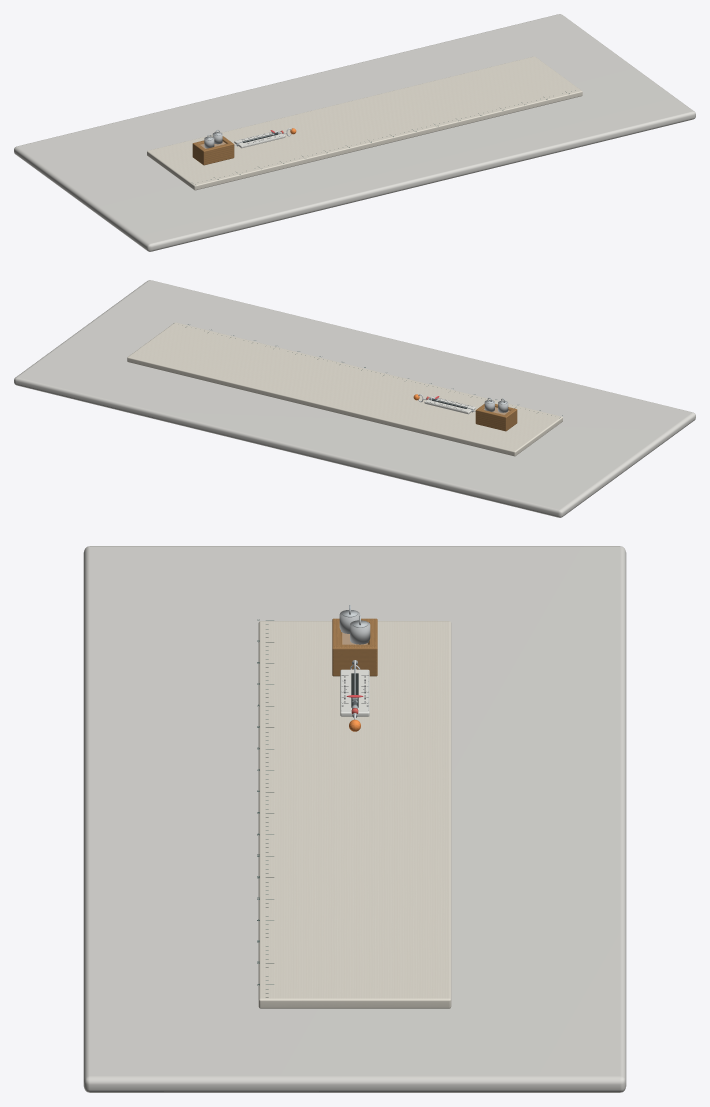
The model's file is friction-manual-v9.glb.
3 renders of one model, top to bottom at view 1: azimuth 30°, elevation 25°; view 2: azimuth 150°, elevation 25°; view 3: azimuth 270°, elevation 25°, orthographic. The views are drawn at different scales.
Parts seen in each view (by area): view 1: 摄影台_暖灰, 实验长木板_177厘米×38厘米, 木块主体_真实凹槽_140×90×63mm; view 2: 摄影台_暖灰, 实验长木板_177厘米×38厘米, 木块主体_真实凹槽_140×90×63mm; view 3: 摄影台_暖灰, 实验长木板_177厘米×38厘米, 木块主体_真实凹槽_140×90×63mm, V6_白色板式主体_200mmx58mm.
Part boxes in pixels (left/top/right/bottom): 摄影台_暖灰: left=14, top=14, right=695, bottom=251; 实验长木板_177厘米×38厘米: left=147, top=56, right=582, bottom=190; 木块主体_真实凹槽_140×90×63mm: left=192, top=136, right=234, bottom=165; 摄影台_暖灰: left=14, top=280, right=695, bottom=517; 实验长木板_177厘米×38厘米: left=127, top=322, right=562, bottom=456; 木块主体_真实凹槽_140×90×63mm: left=475, top=404, right=517, bottom=431; 摄影台_暖灰: left=83, top=546, right=626, bottom=1092; 实验长木板_177厘米×38厘米: left=258, top=621, right=451, bottom=1008; 木块主体_真实凹槽_140×90×63mm: left=332, top=618, right=377, bottom=676; V6_白色板式主体_200mmx58mm: left=340, top=669, right=369, bottom=716.
Size of the model in its own units: 2.5 by 0.1714 by 1.07.
17 materials, 2 textured.
